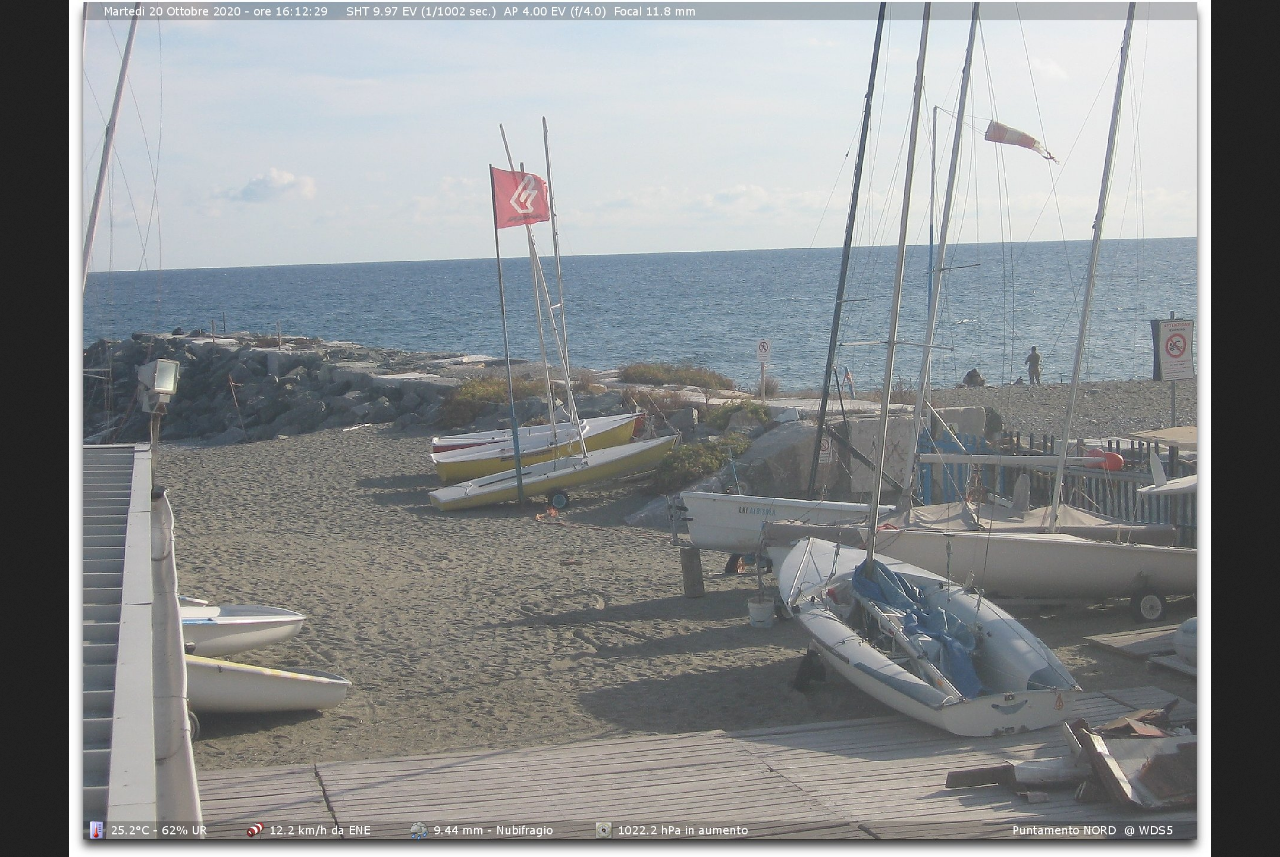yes: (490, 162, 549, 232)
